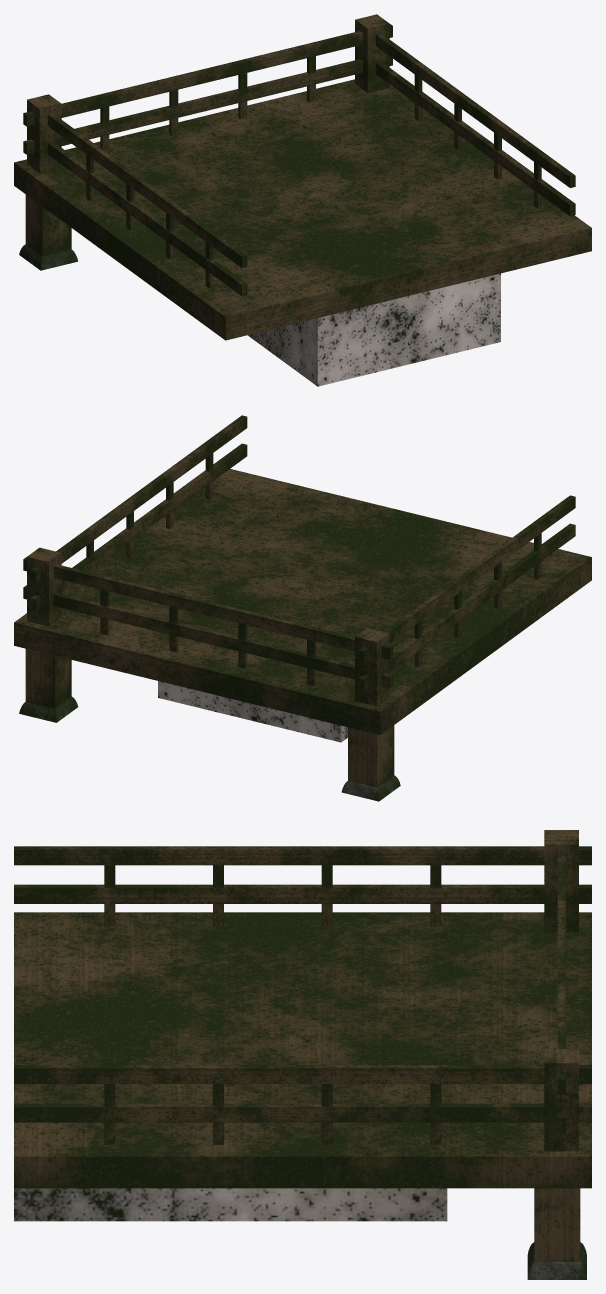
The model's file is shrine_floor_outside_protrusion_02.fbx.
3 views of the same model, one above another, from view 1: azimuth 30°, elevation 25°; view 2: azimuth 150°, elevation 25°; view 3: azimuth 270°, elevation 25° (orthographic). The views are drawn at different scales.
Parts seen in each view (by area): view 1: shrine_floor_outside_protrusion_02; view 2: shrine_floor_outside_protrusion_02; view 3: shrine_floor_outside_protrusion_02.
Boxes of the visible parts, bbox=[...] form: shrine_floor_outside_protrusion_02: bbox=[14, 14, 591, 386]; shrine_floor_outside_protrusion_02: bbox=[14, 415, 591, 801]; shrine_floor_outside_protrusion_02: bbox=[14, 830, 591, 1279].
Bounding box in the file's own units: 330 × 134 × 330.
Materials: 1 (1 with a texture image).
